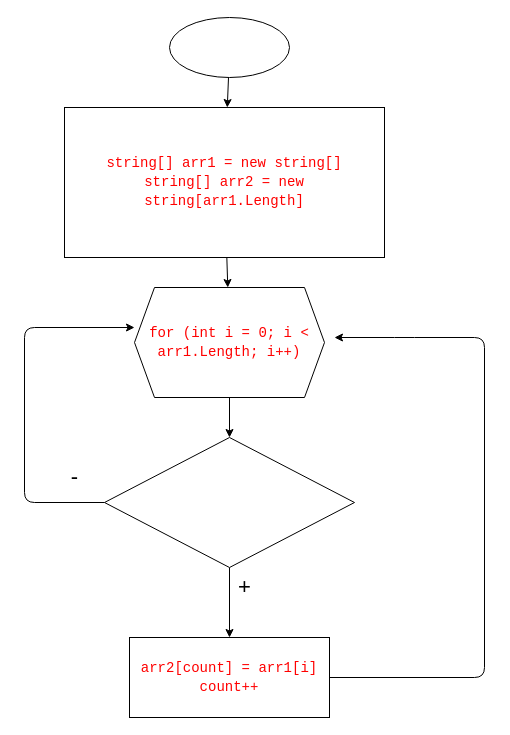
Some shapes in this 510 by 735 pixel diagram are drawn without their labels. The centre of each missing label's shape, as x and y in pixels:
"if(arr1[i].Length <= 3)" belongs at point (229, 502).
"START" belongs at point (229, 47).
